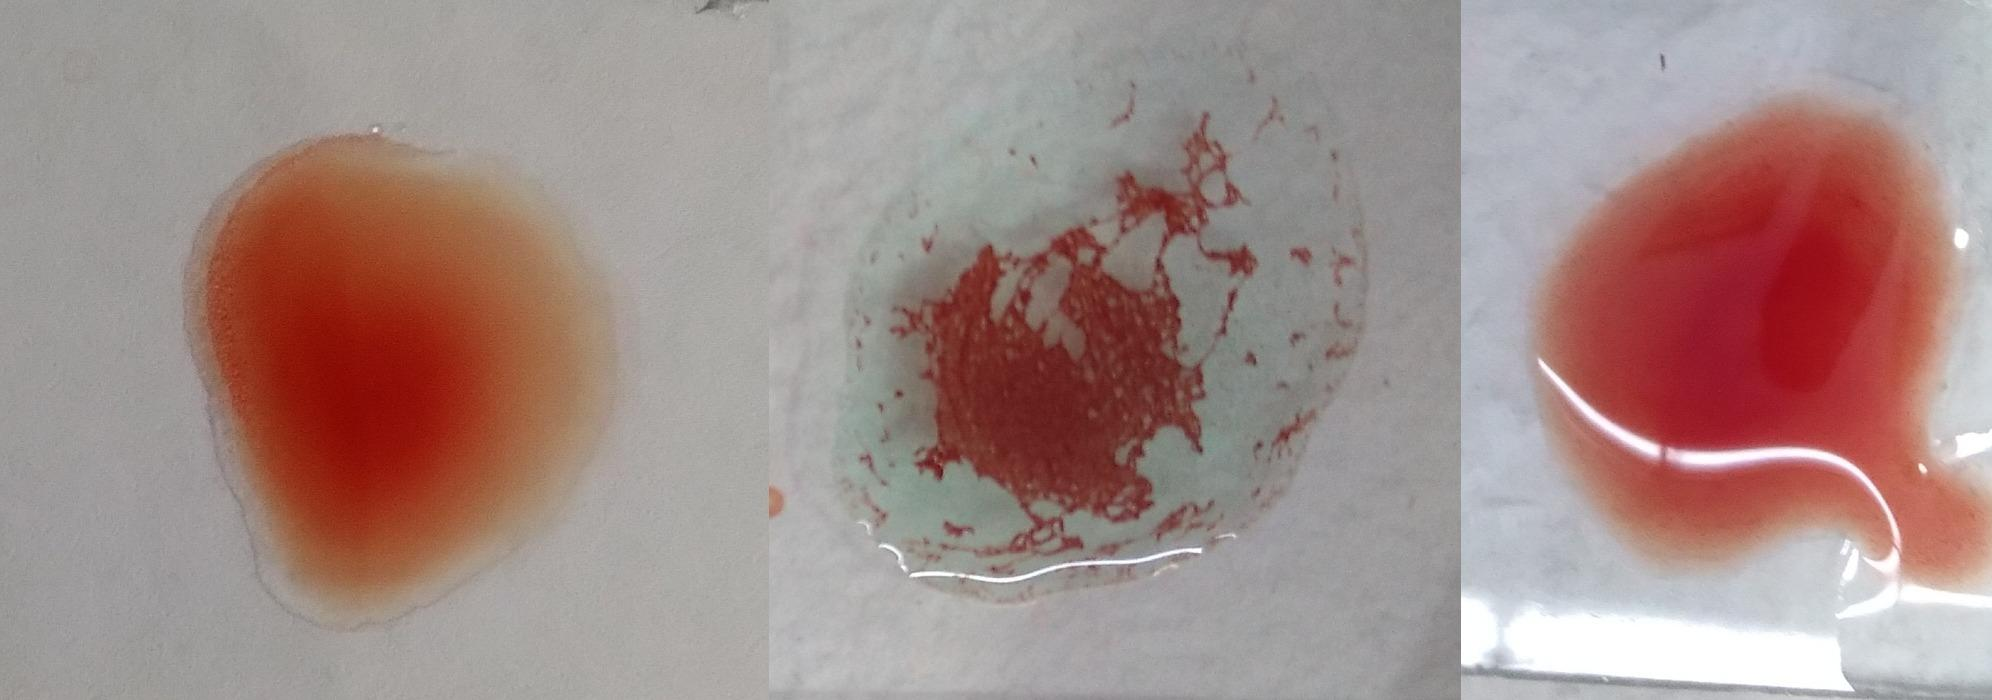A: (877, 58, 1344, 581)
